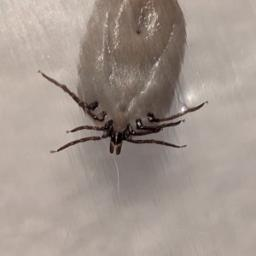Ixodes scapularis: (37, 4, 211, 155)
